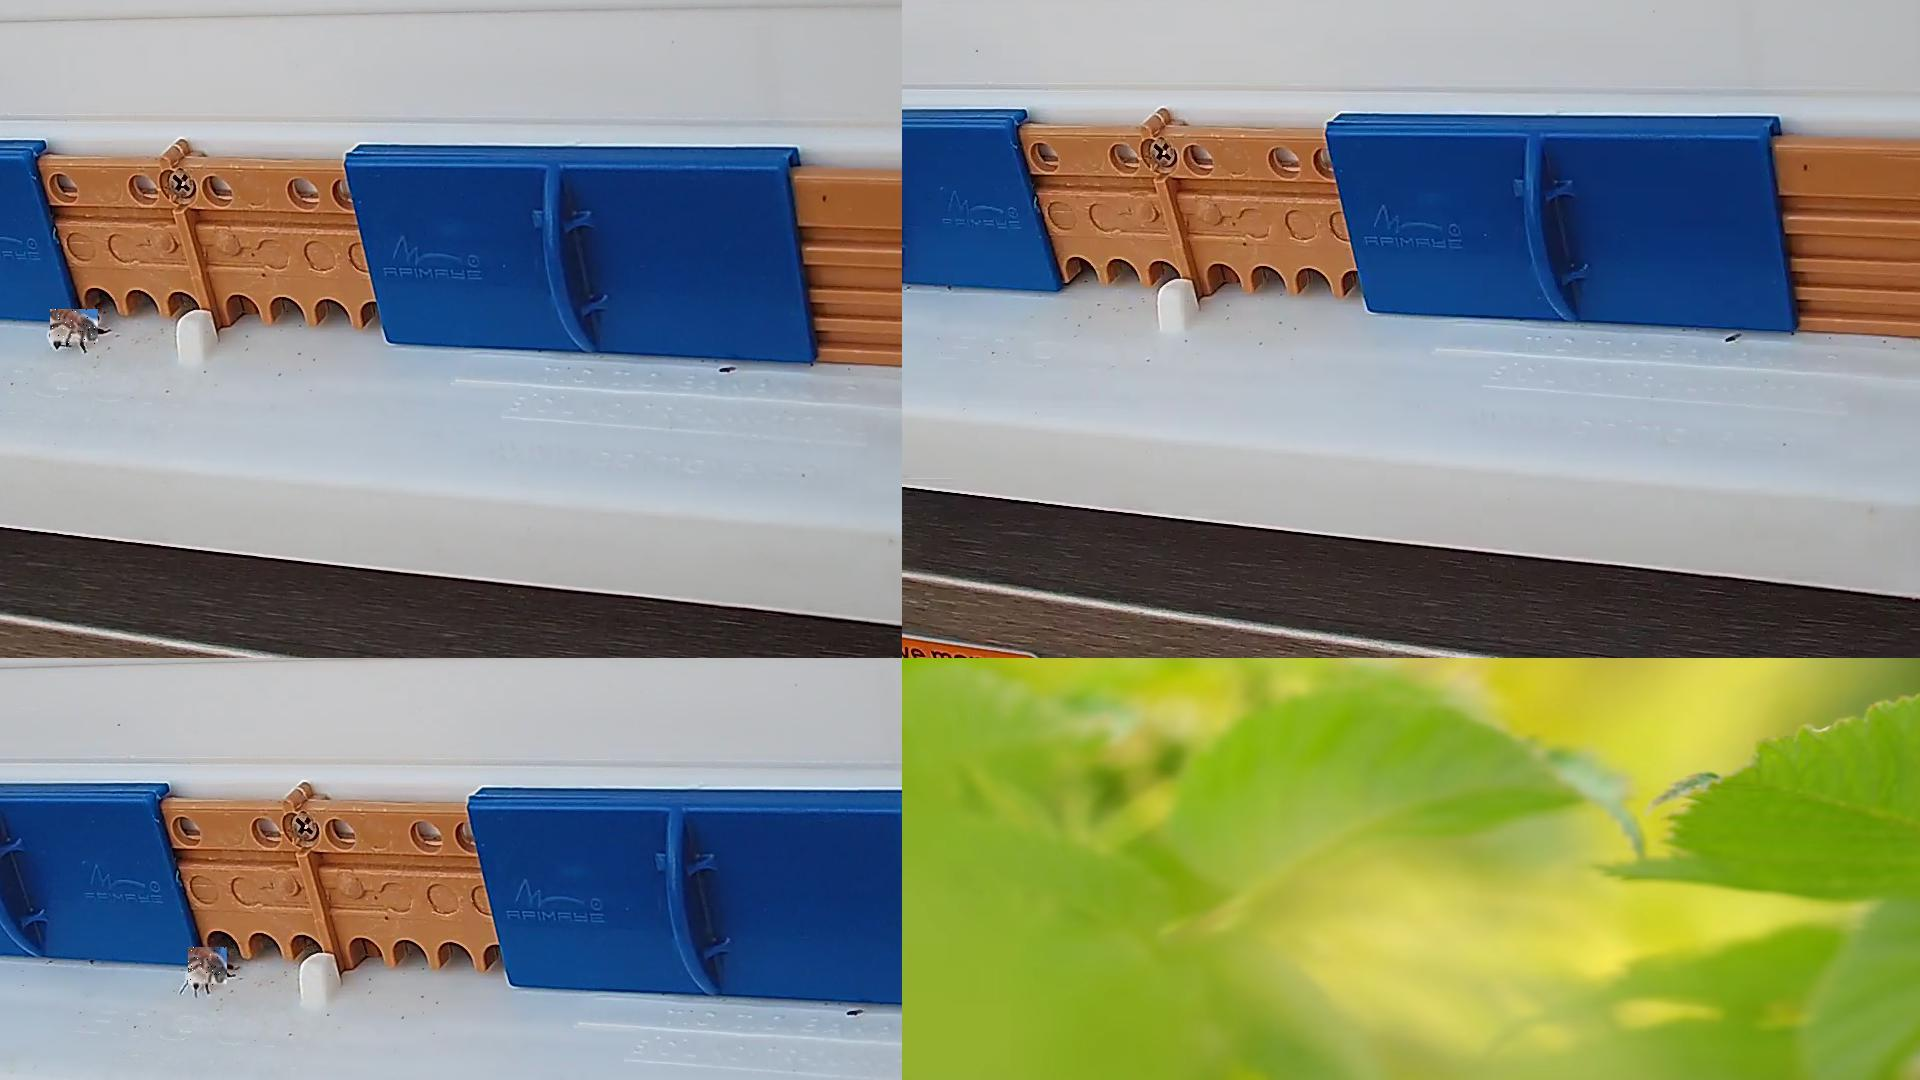bee: (50, 310, 99, 345), (189, 948, 228, 988)
